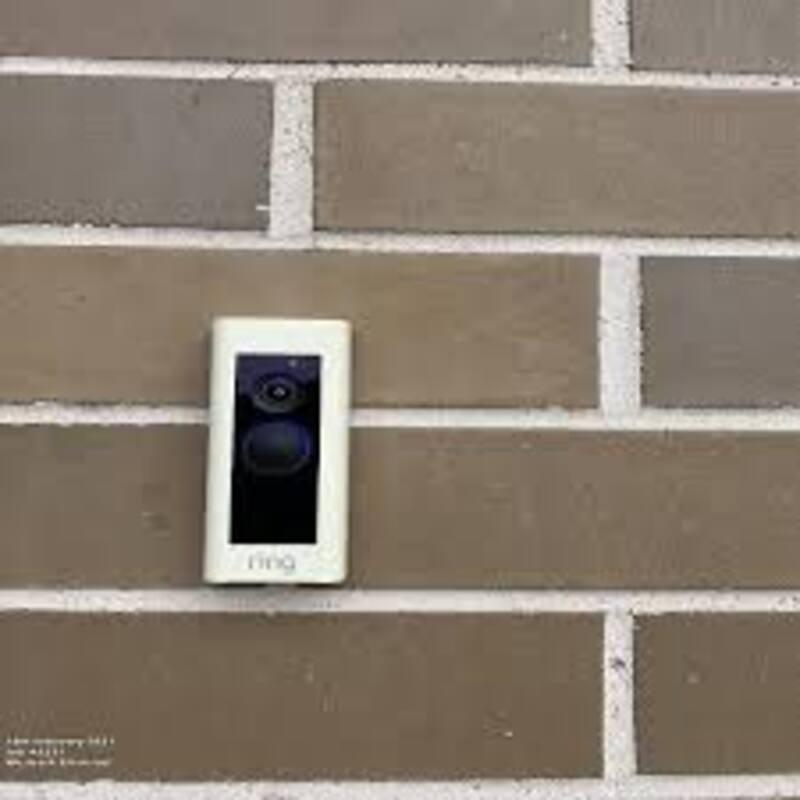doorbell: (186, 308, 360, 589)
